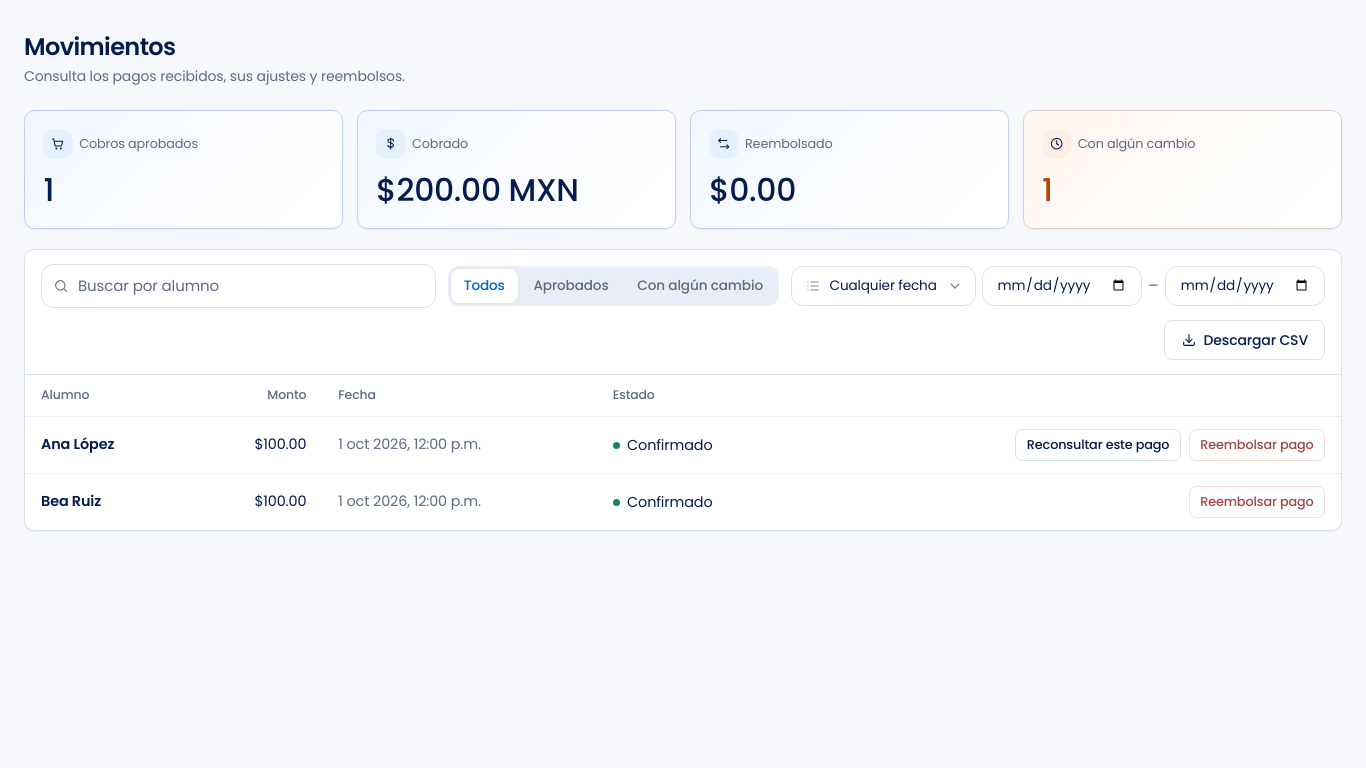
it: cobros: movimientos › un cobro en línea se reconsulta con su pasarela; uno en caja no (ADR 0227)
The width and height of the screenshot is (1366, 768).
What coordinates should you click on to do the following:
click the button "Reconsultar este pago"
I would click on:
 (1098, 445)
Its box is left=1016, top=429, right=1181, bottom=461.
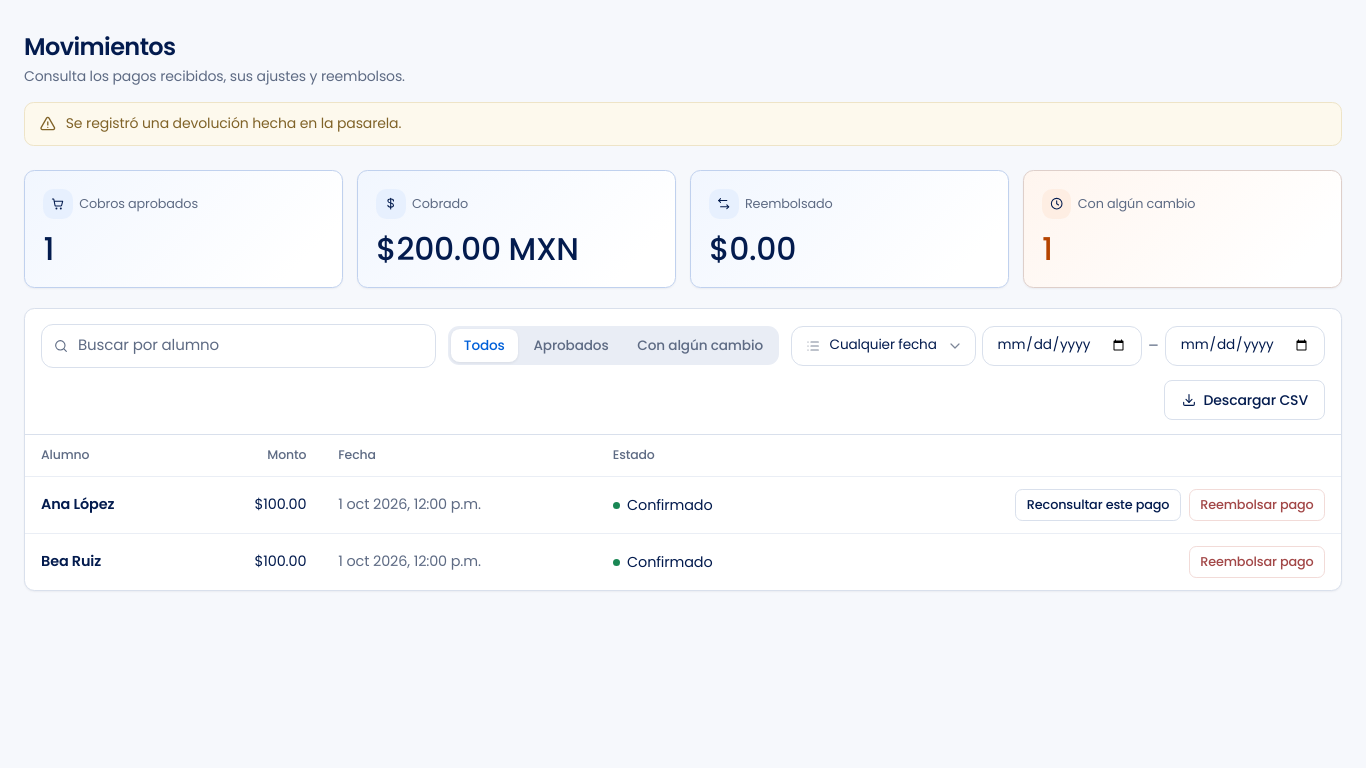
Now the text "Se registró una devolución hecha en la pasarela." is shown, box left=66, top=113, right=401, bottom=133
